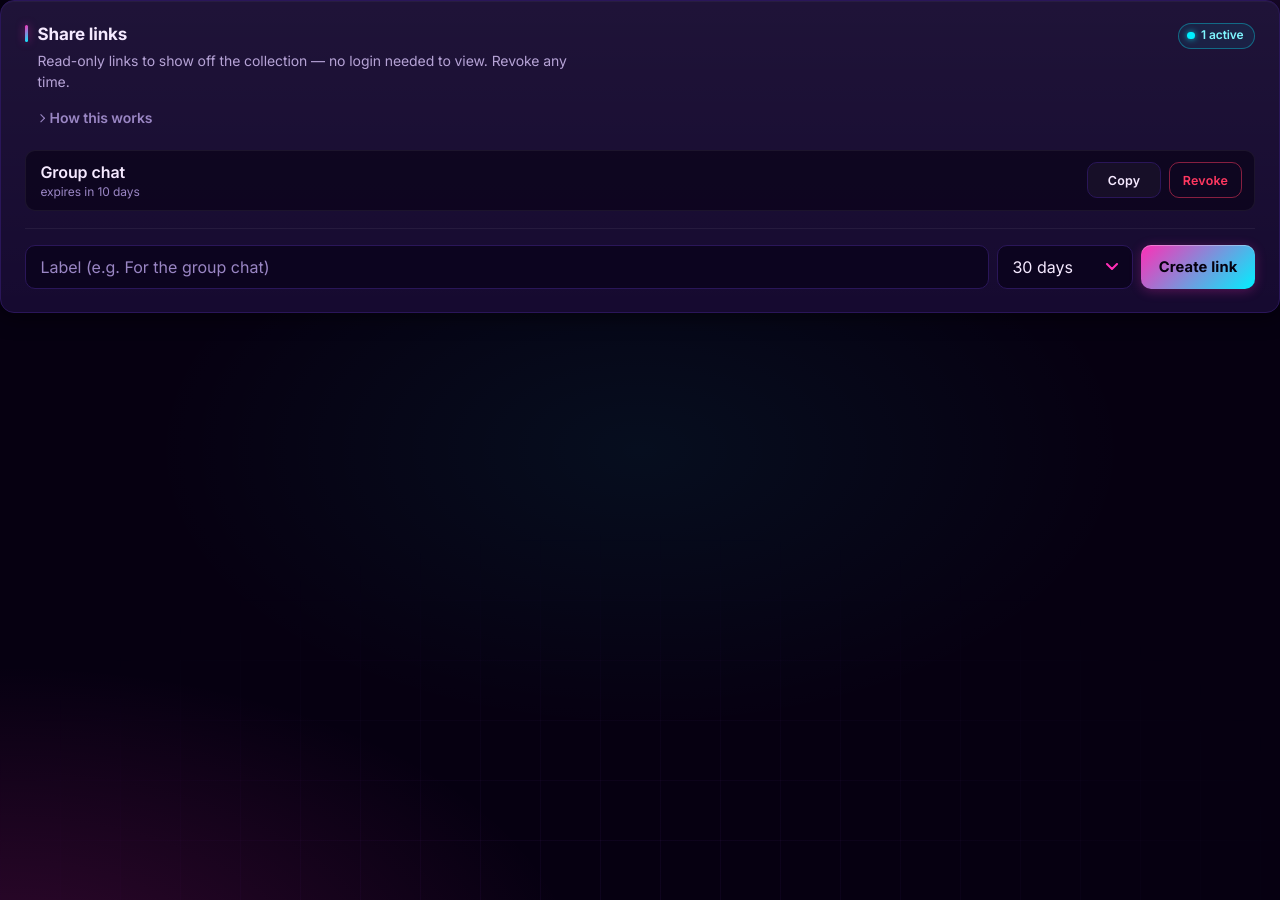
it: ShareLinksCard › keeps the link when the revoke is canceled
What coordinates should you click on to do the following:
click the button with aria-label "Revoke link: Group chat"
I would click on:
 (1205, 180)
Its box is [1169, 162, 1242, 198].
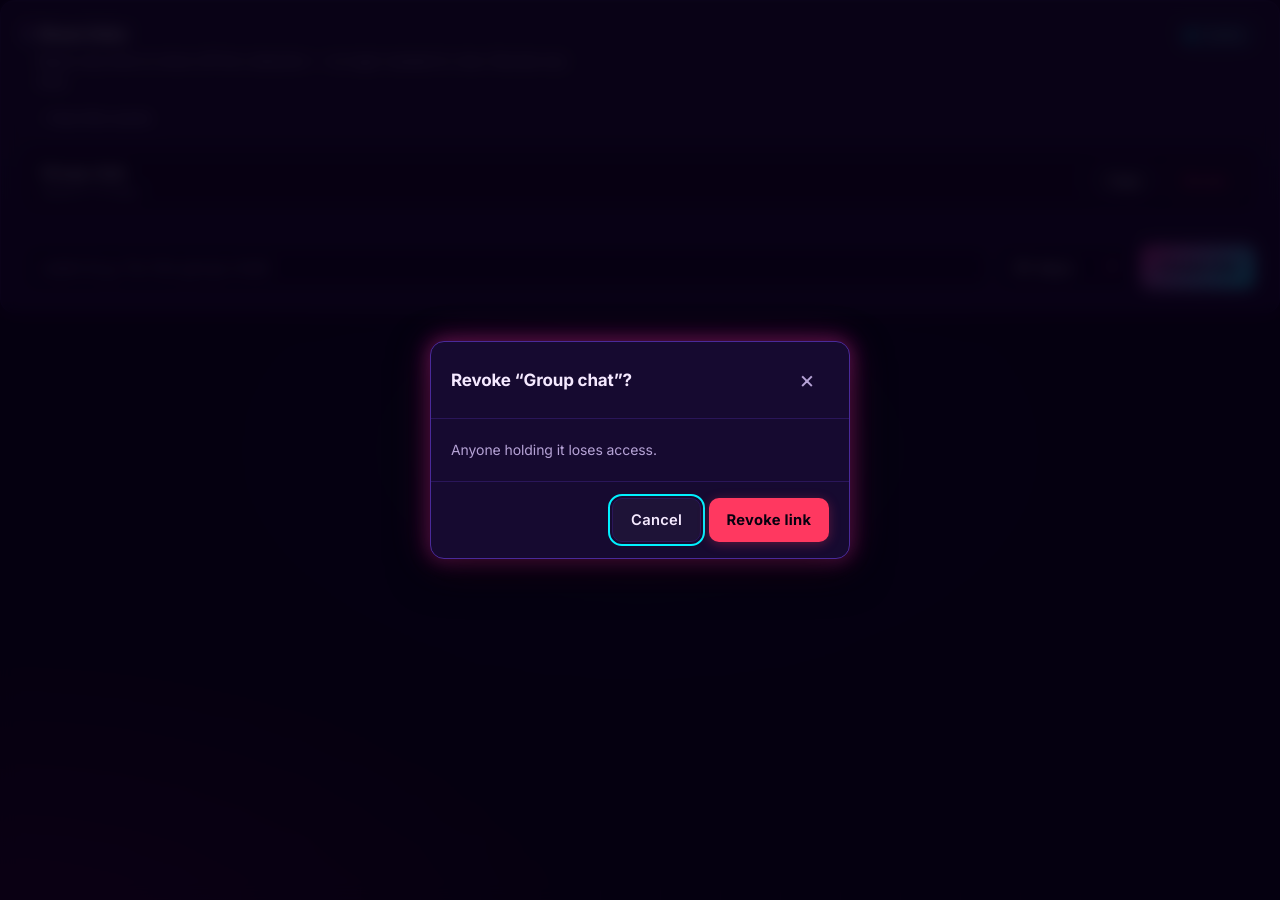
Result: the text "Anyone holding it loses access." is shown at [451, 441, 657, 458]
What coordinates should you click on to do the following:
click the button "Cancel"
I would click on:
 (657, 520)
Its box is [612, 498, 701, 542].
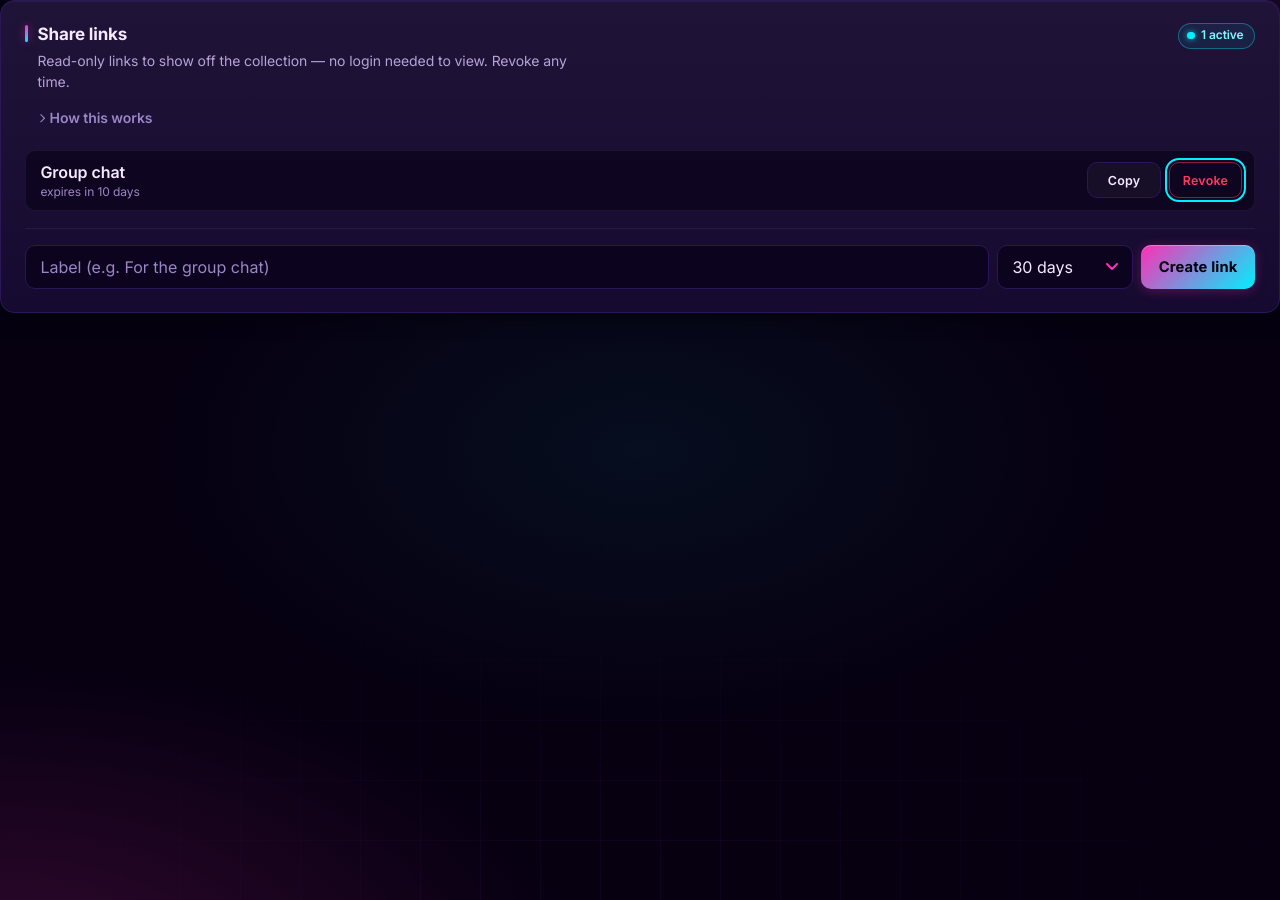
Expected: the text "Group chat" is shown, [40, 162, 125, 182]
Result: the dialog is gone
